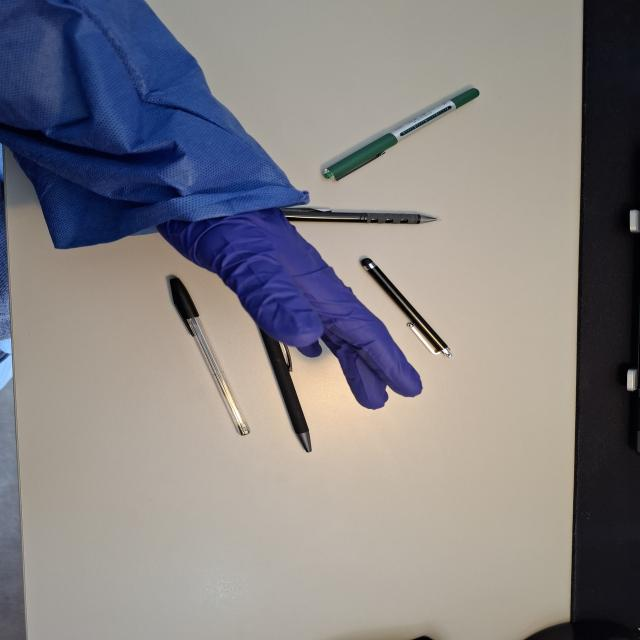glove_on: (150, 196, 426, 412)
